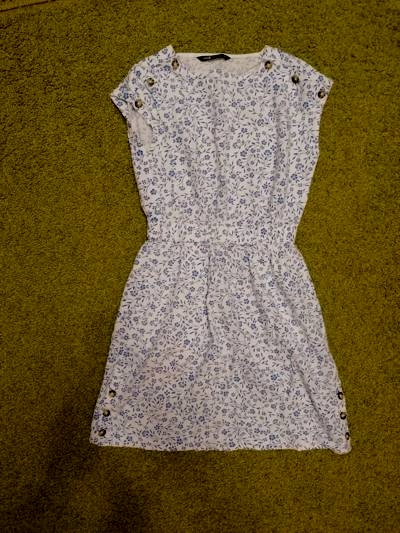Dress: (102, 41, 360, 477)
